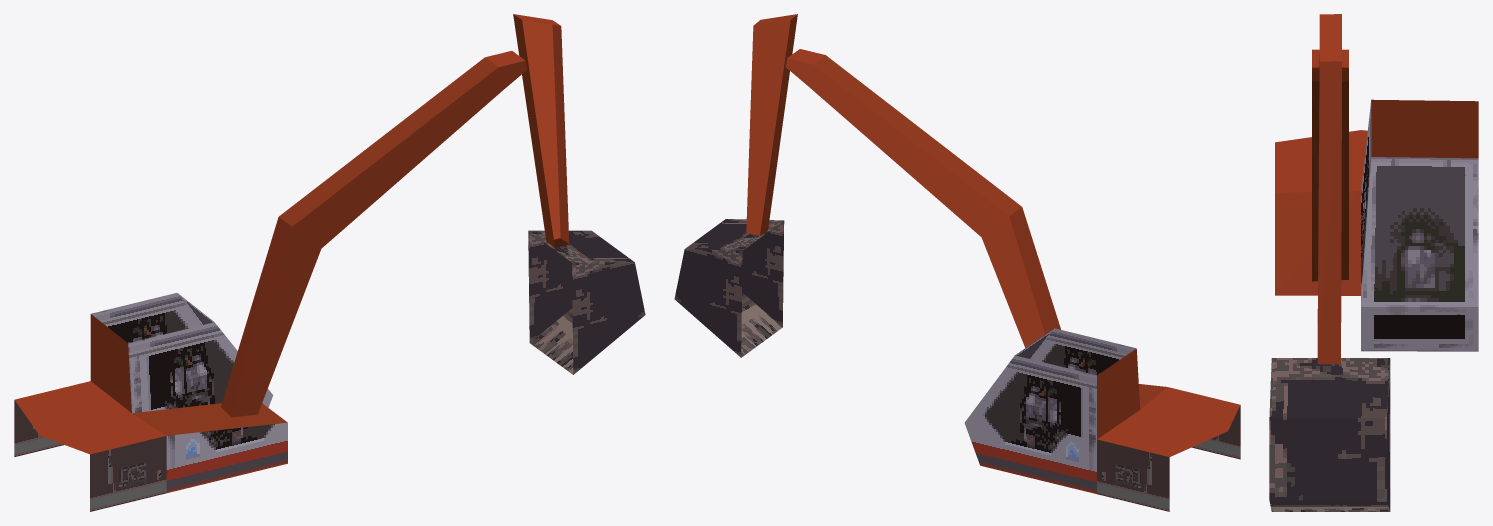
Rendered from special-192.glb.
3 renders of one model, left to right at view 1: azimuth 30°, elevation 25°; view 2: azimuth 150°, elevation 25°; view 3: azimuth 270°, elevation 25°, orthographic. The views are drawn at different scales.
Visible parts, largest first — view 1: special-192; view 2: special-192; view 3: special-192.
Part boxes in pixels (bbox=[...]): special-192: bbox=[14, 14, 645, 511]; special-192: bbox=[674, 14, 1240, 511]; special-192: bbox=[1269, 14, 1478, 511].
Size of the model in its own units: 0.7822 by 0.4844 by 0.1826.
9 materials, 1 textured.
